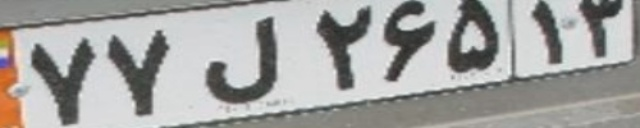1: (529, 0, 566, 65)
2: (312, 5, 367, 89)
3: (574, 0, 625, 57)
5: (451, 0, 500, 72)
6: (379, 0, 436, 82)
7: (30, 36, 95, 124), (104, 29, 164, 116)
lam: (202, 15, 283, 104)
